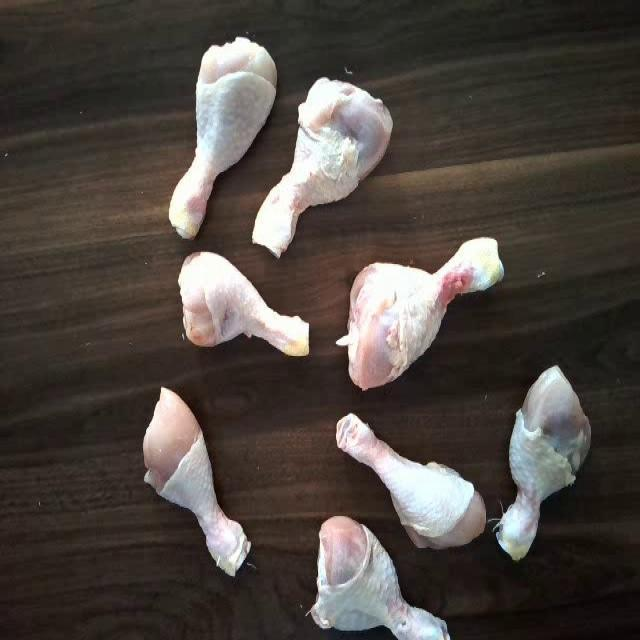leg: (252, 56, 403, 260), (129, 387, 258, 577), (340, 239, 506, 385), (488, 359, 600, 563), (167, 26, 273, 232), (333, 408, 485, 550), (306, 507, 452, 640), (164, 243, 314, 367)
